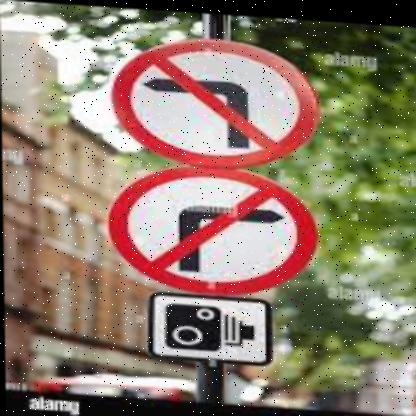No right turn: (98, 159, 328, 299)
